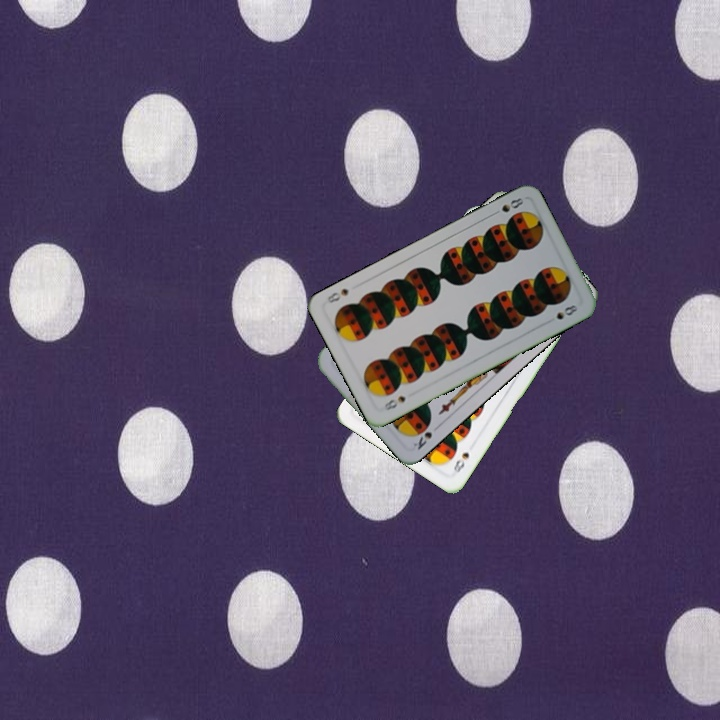S8: (488, 193, 526, 218), (449, 448, 472, 476), (380, 392, 409, 413)
SK: (409, 428, 435, 452)
